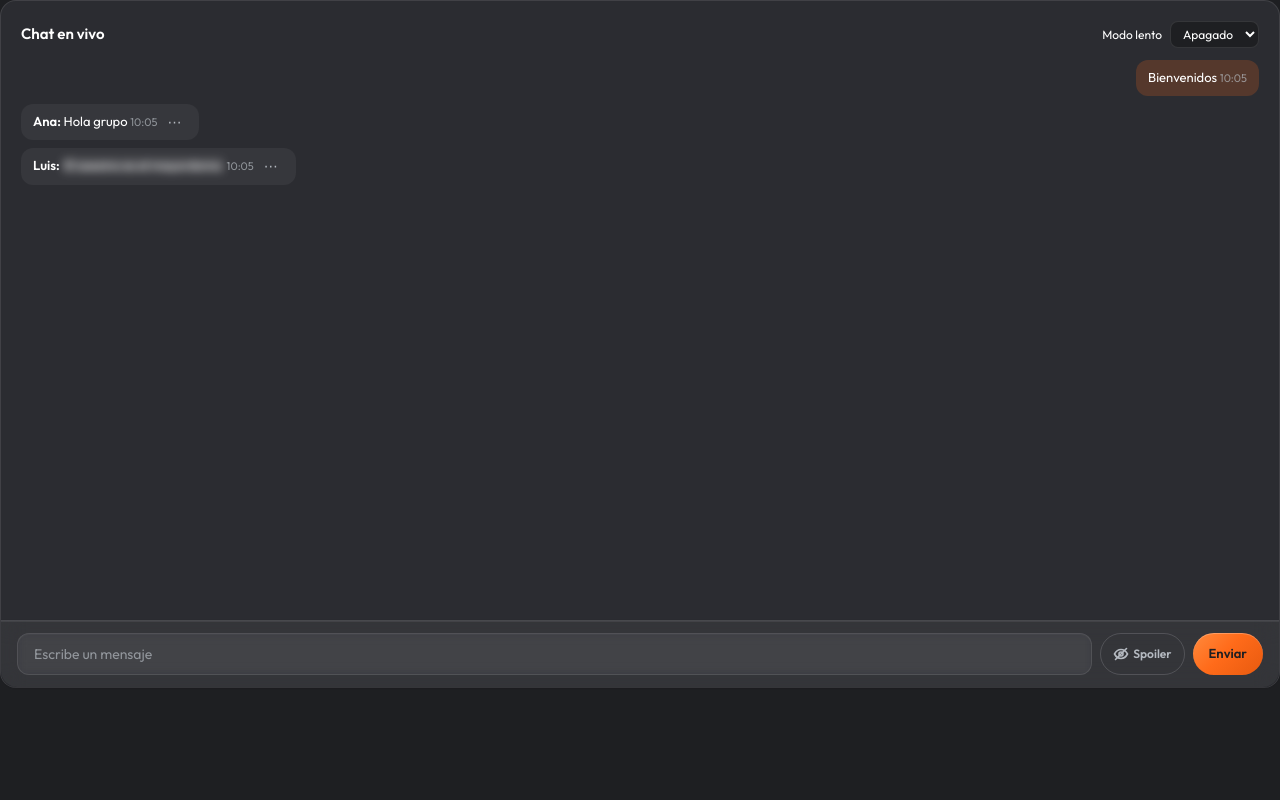
Test: ChatPanel — menú del host › Escape cierra el menú y devuelve el foco
Click the button named "Opciones para Ana".
click(174, 122)  # box [161,115,187,129]
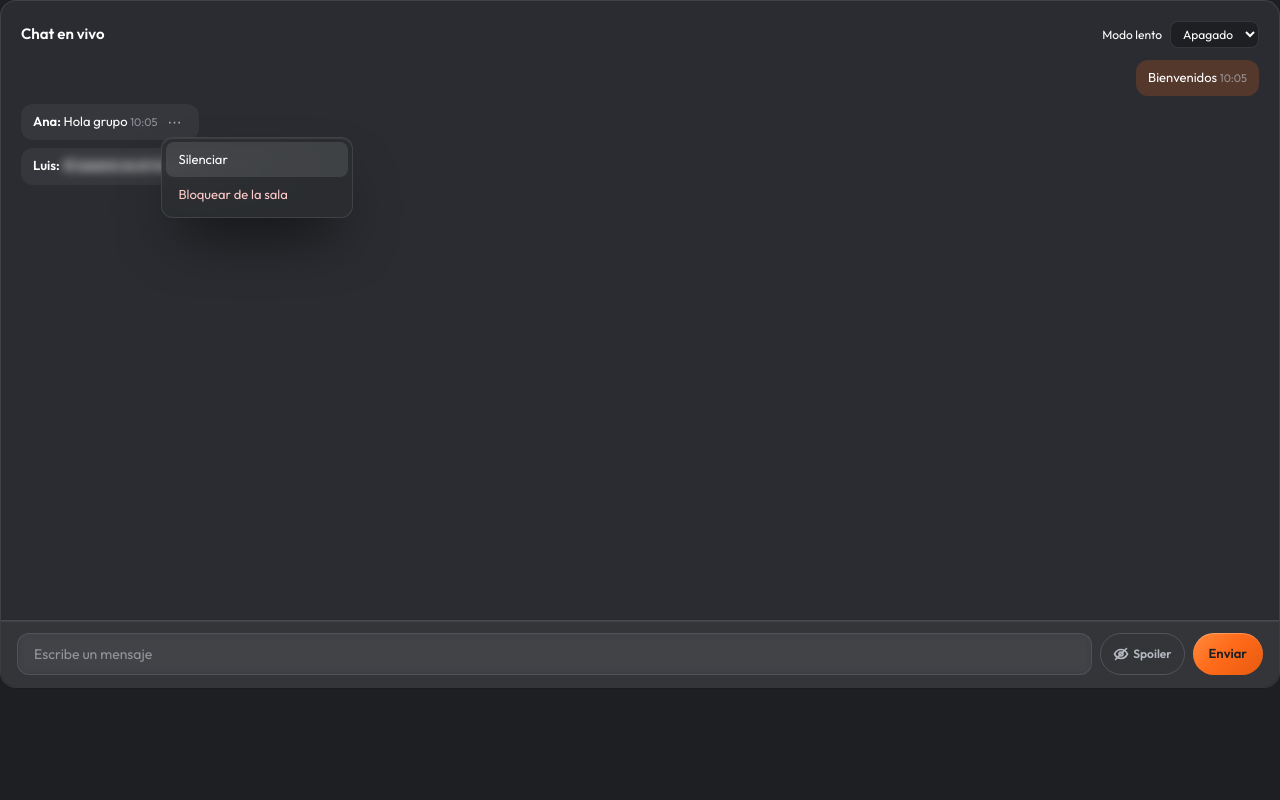
Press Escape in the menu, box [161,137,353,218]
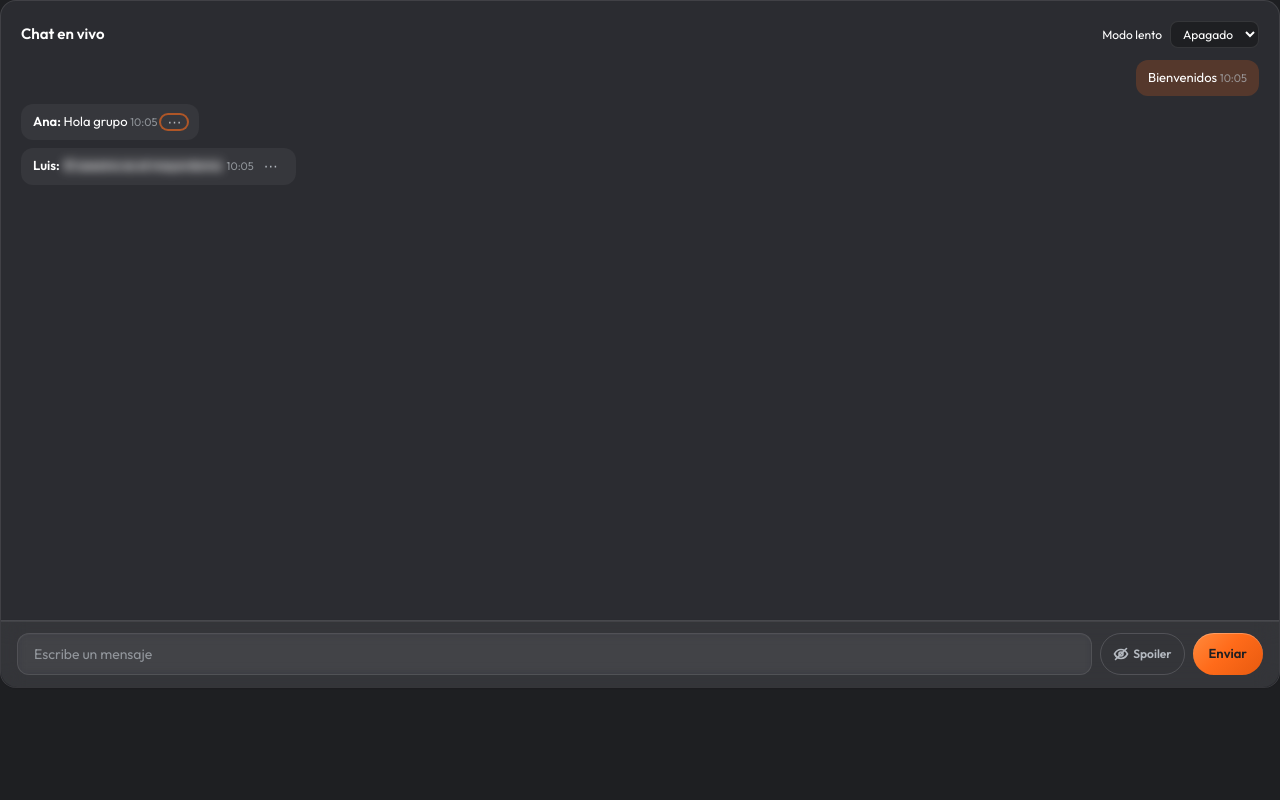
Expected: the menu is gone
Click the button named "Opciones para Ana".
click(174, 122)  # box [161,115,187,129]
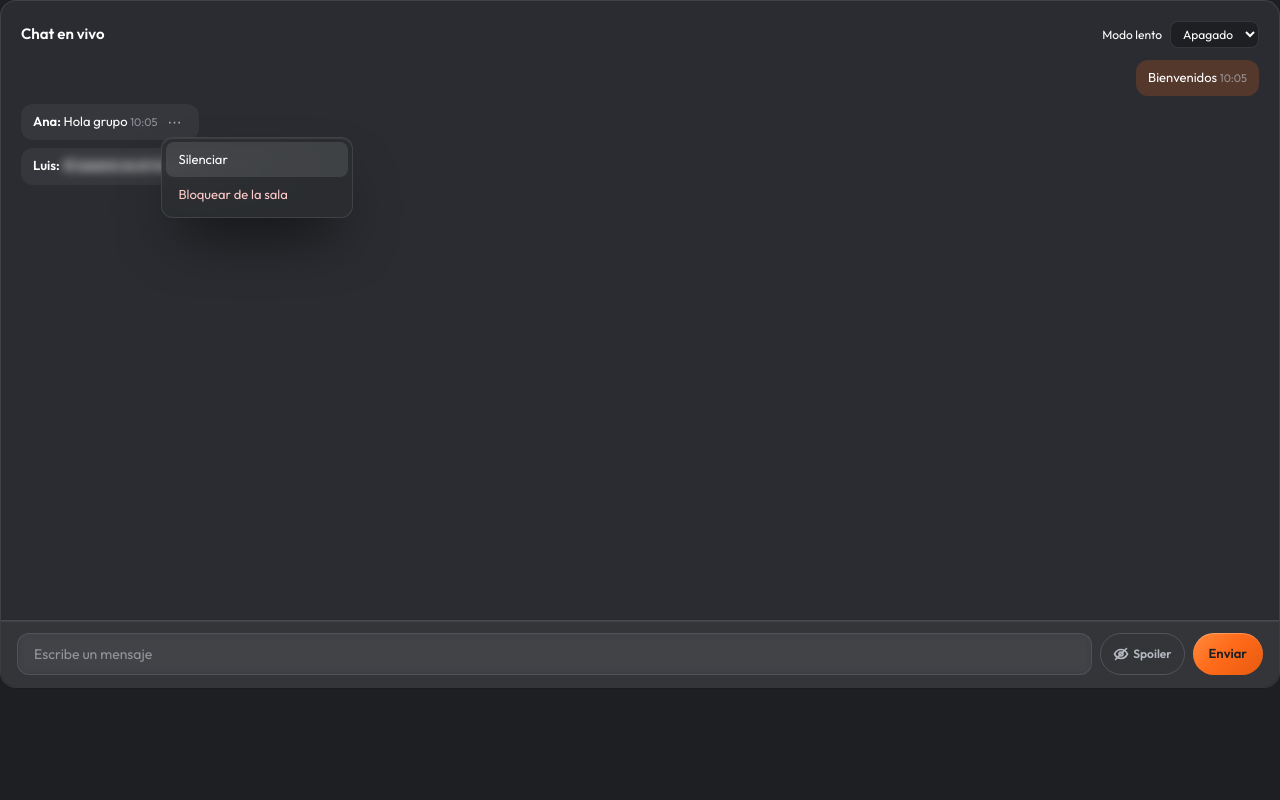
Click the button named "Opciones para Ana".
click(174, 122)  # box [161,115,187,129]
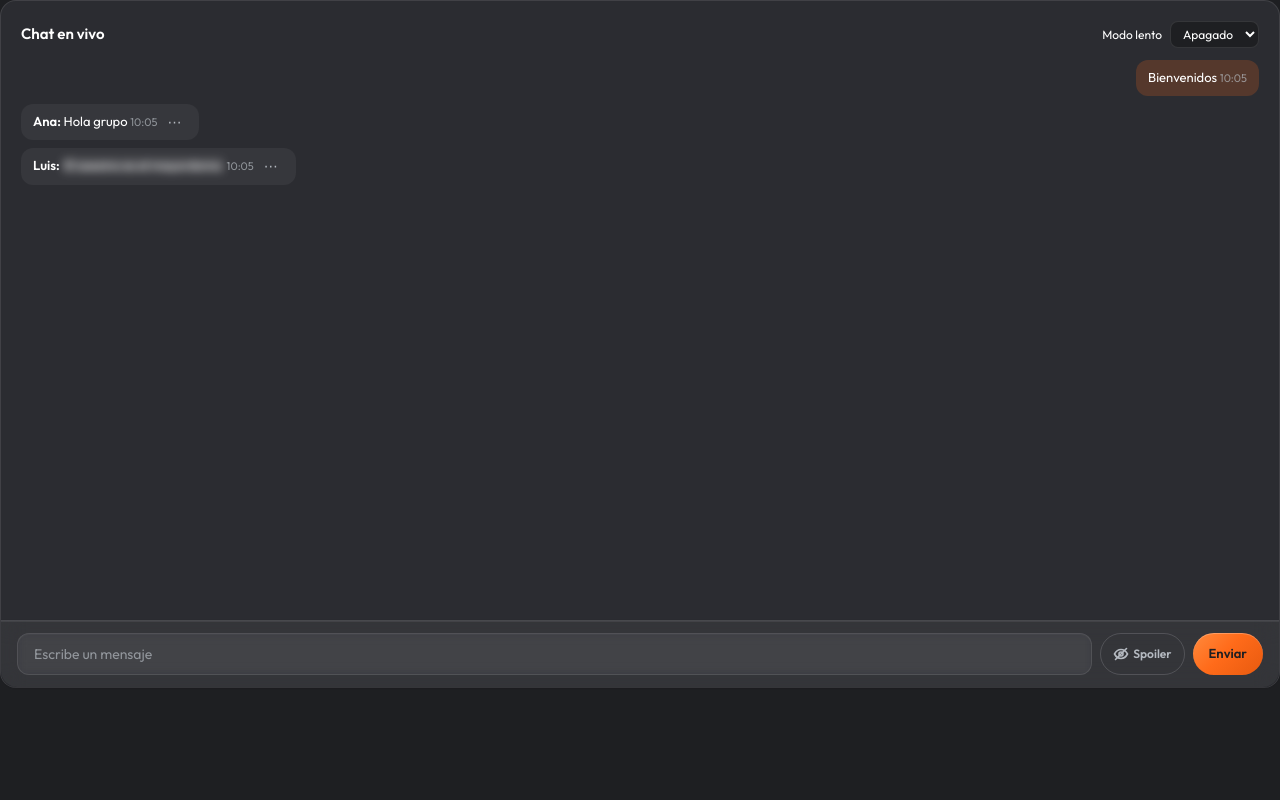
Expected: the menu is gone
